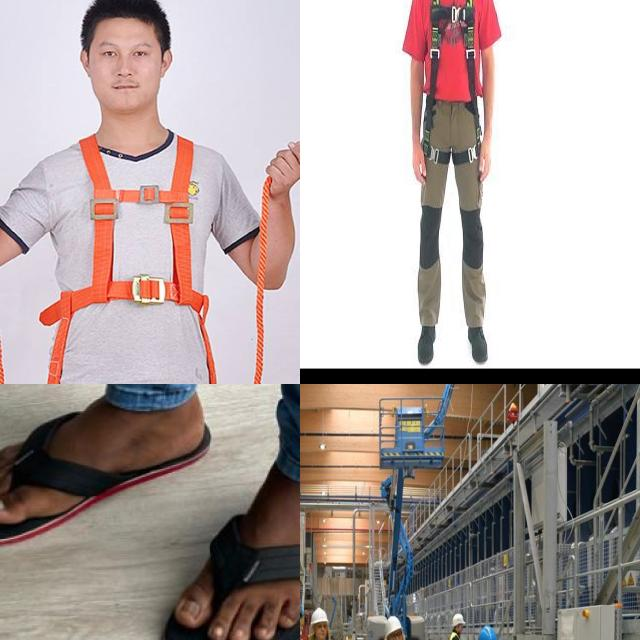Harness: (45, 130, 222, 384), (422, 0, 483, 165)
No_Glasses: (94, 40, 153, 62)
Sandals: (0, 391, 212, 547), (162, 433, 300, 640)
face_nomask: (315, 622, 329, 640), (390, 630, 405, 640)
head_helmet: (384, 611, 404, 635), (476, 624, 500, 640), (310, 608, 331, 625), (450, 612, 466, 628)
person: (308, 610, 347, 640), (444, 614, 473, 640)
